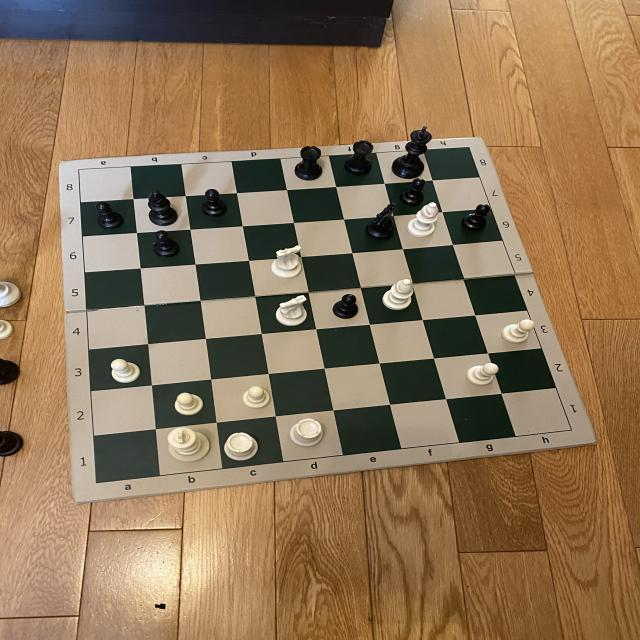chess-table-corners: (90, 477, 104, 485), (565, 426, 579, 432), (73, 167, 85, 174), (463, 144, 476, 150)
